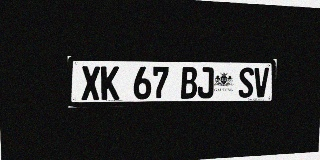6: (134, 66, 151, 99)
7: (152, 67, 169, 99)
B: (181, 67, 197, 99)
J: (197, 67, 214, 98)
K: (101, 66, 119, 100)
S: (238, 67, 254, 98)
V: (254, 68, 269, 97)
X: (81, 66, 100, 100)
